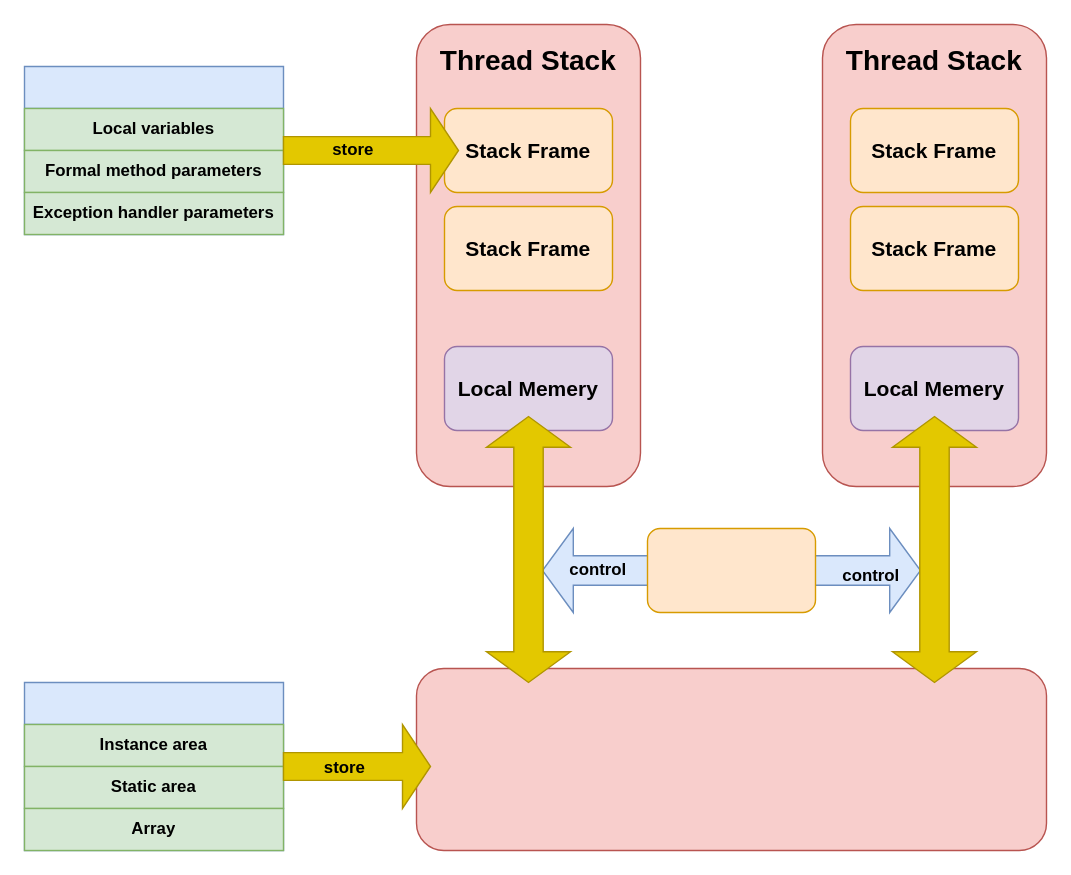
This 1071x875 diagram has some shape labels left out. Each missing label, with the box of its shape:
Heap: (415, 667, 1046, 850)
Heap Variables: (23, 681, 284, 850)
JMM: (646, 527, 816, 612)
Stack Frame Variables: (23, 65, 284, 234)
